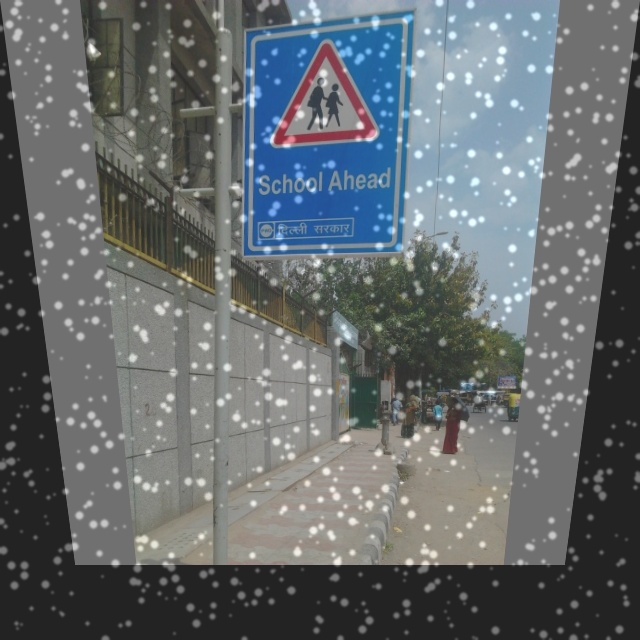School_Ahead: (262, 39, 394, 152)
